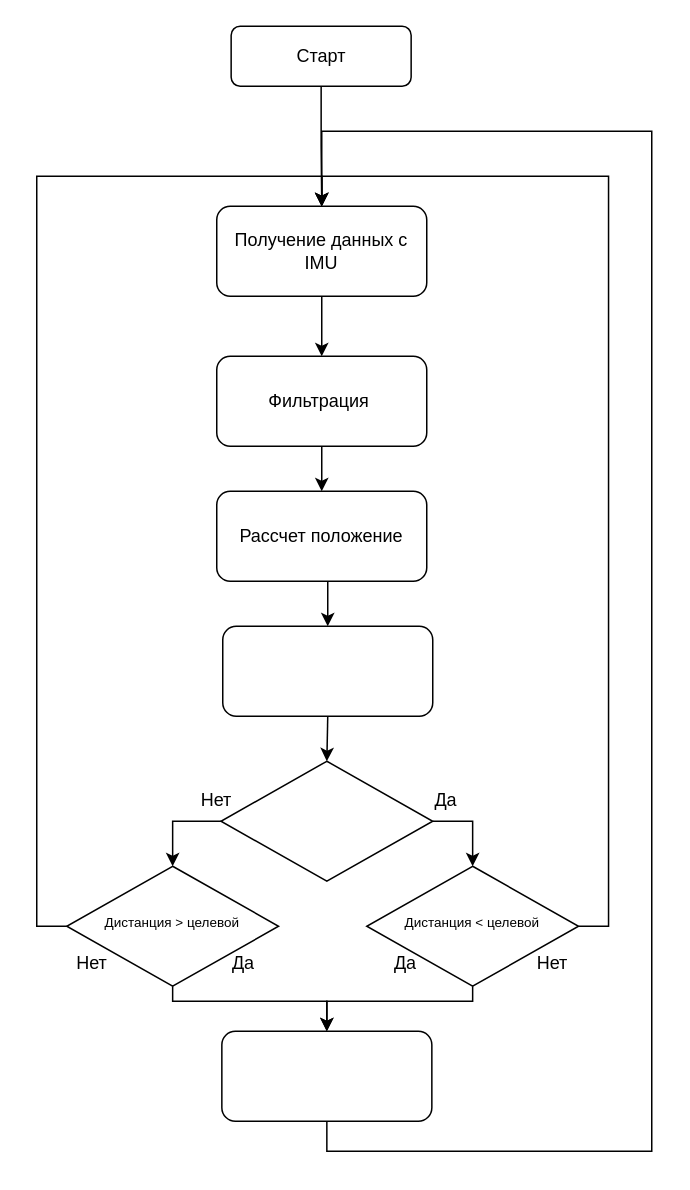
The diagram is 690 pixels wide and 1190 high, and some of its shapes have lost their labels. The box of each missing label's shape, as (x1, y1, x2, y2) in pixels:
Направление = Вперед: (219, 760, 433, 881)
Рассчет новой скорсти: (221, 625, 433, 716)
Сброс: (220, 1030, 432, 1121)
